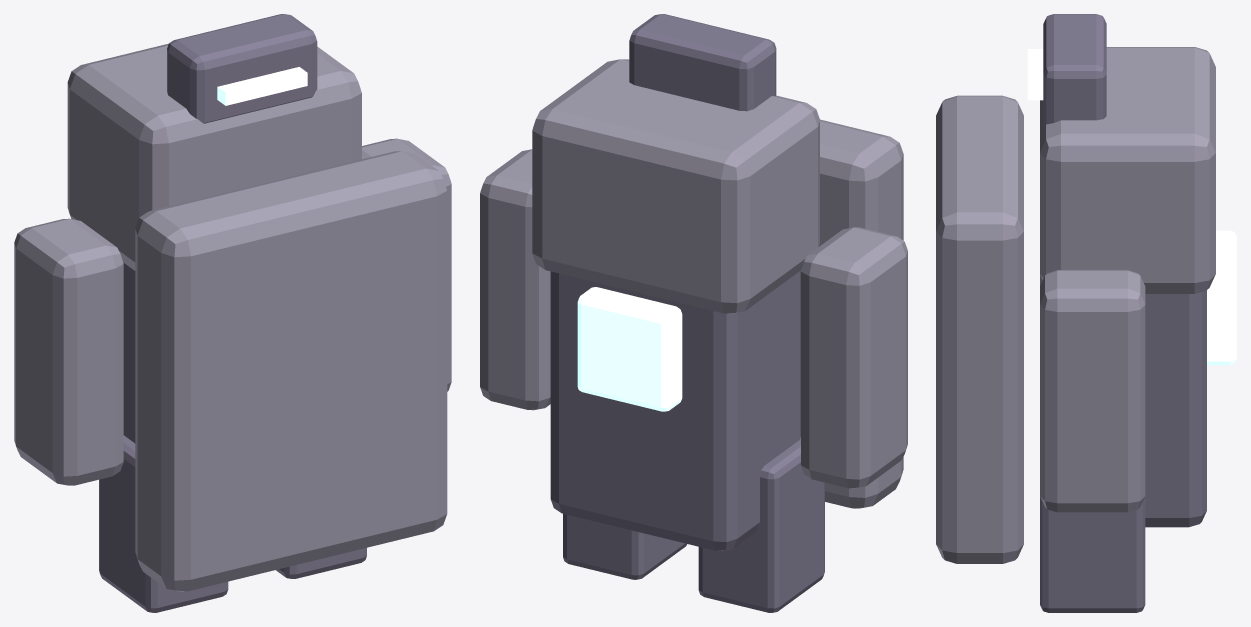
Rendered from enemy_warden.glb.
The picture shows the model from 3 angles, left to right: view 1: azimuth 30°, elevation 25°; view 2: azimuth 150°, elevation 25°; view 3: azimuth 270°, elevation 25°; orthographic projection. The views are drawn at different scales.
Parts seen in each view (by area): view 1: enemy_warden; view 2: enemy_warden; view 3: enemy_warden.
Boxes of the visible parts, x1=… form: enemy_warden: x1=14, y1=14, x2=451, y2=612; enemy_warden: x1=480, y1=14, x2=907, y2=612; enemy_warden: x1=936, y1=14, x2=1236, y2=612.
Size of the model in its own units: 1.26 by 1.64 by 0.855.
